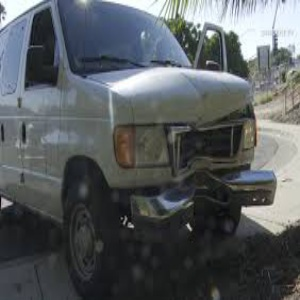bumper: (134, 168, 283, 235)
